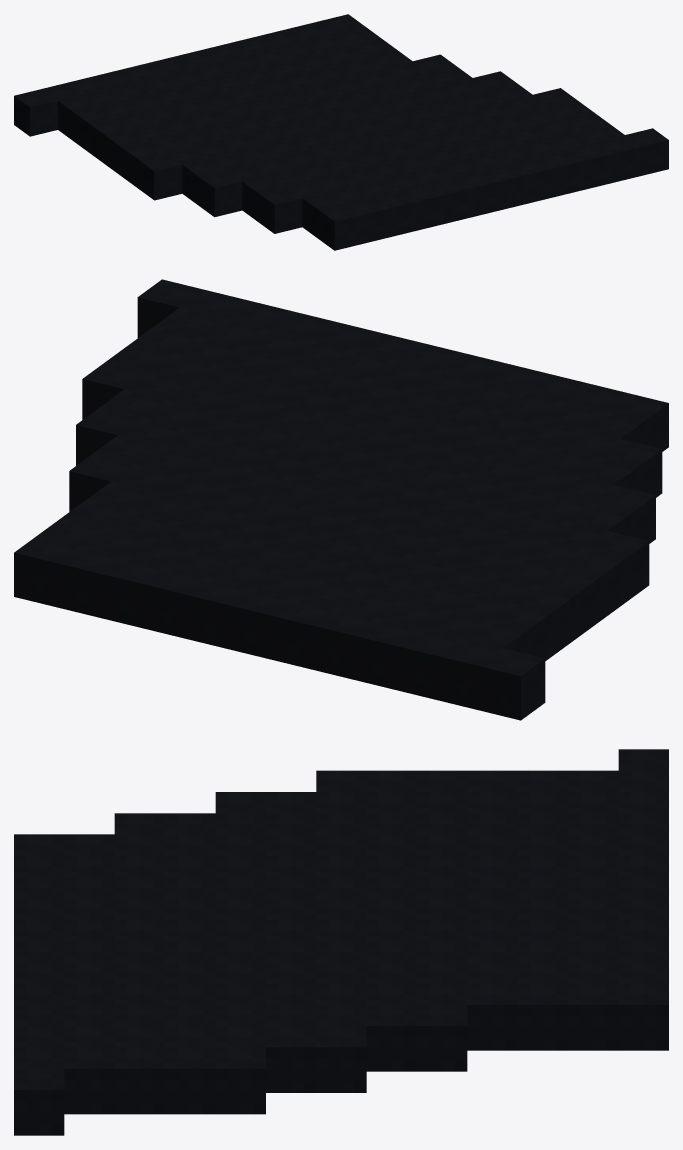
File: CurvaCaverna1.fbx
3 views of the same model, one above another, from view 1: azimuth 30°, elevation 25°; view 2: azimuth 150°, elevation 25°; view 3: azimuth 270°, elevation 25° (orthographic). The views are drawn at different scales.
Visible parts, largest first — view 1: Curva Carverna 1; view 2: Curva Carverna 1; view 3: Curva Carverna 1.
Boxes of the visible parts, x1,y1,x2,y2 form: Curva Carverna 1: (14, 14, 668, 250); Curva Carverna 1: (14, 279, 668, 720); Curva Carverna 1: (14, 749, 668, 1135).
Bounding box in the file's own units: 1600 × 100 × 1300.
1 material, 1 textured.
